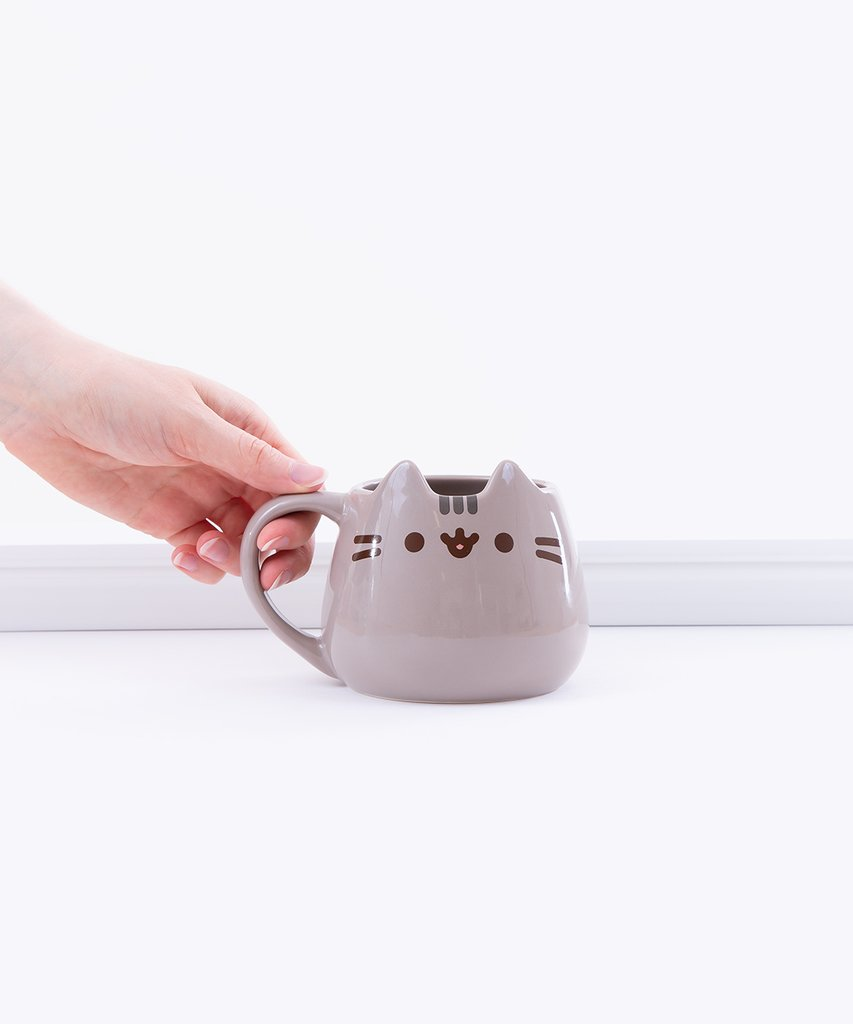gelas: (208, 427, 623, 749)
